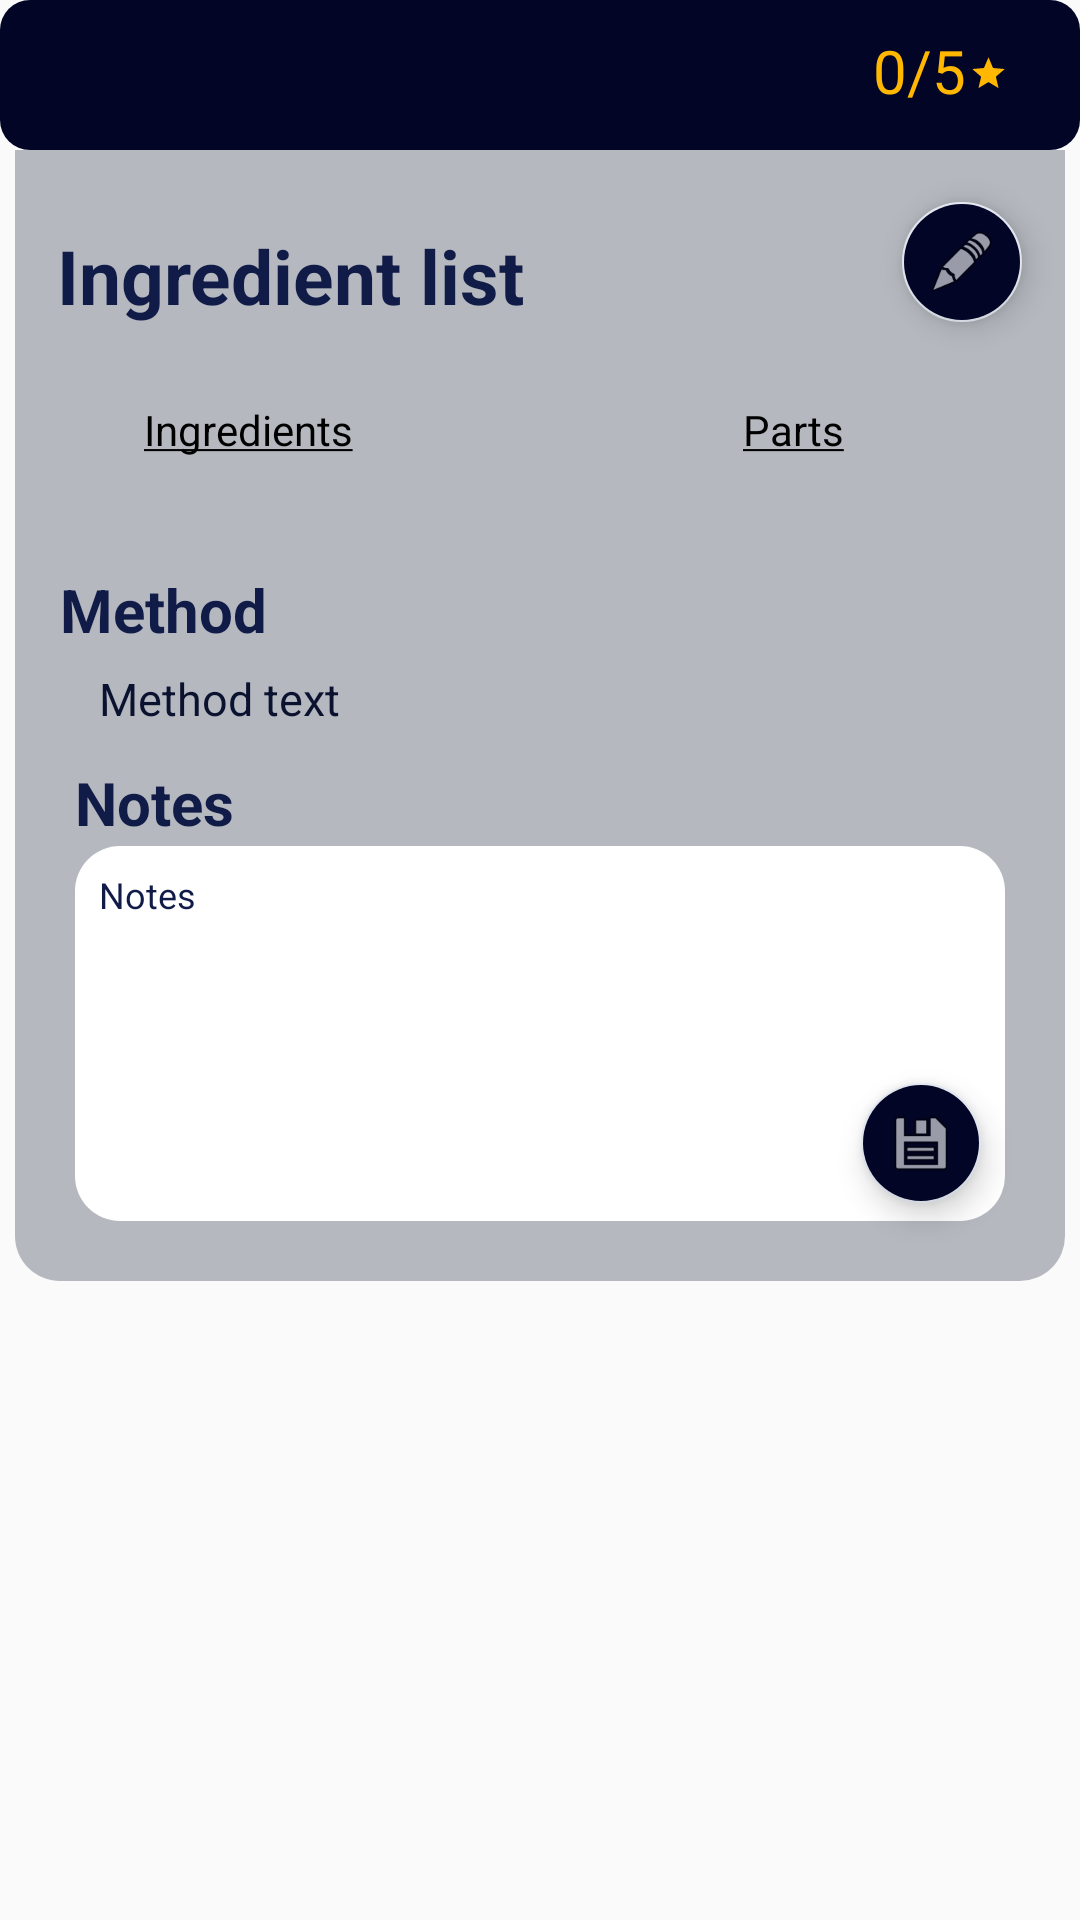

Screen size 1080 × 1920. Icon name, then its box in pixels as (x1, y1, x2, y2):
edit: (902, 202, 1022, 322)
save: (861, 1084, 981, 1203)
star: (972, 57, 1005, 88)
